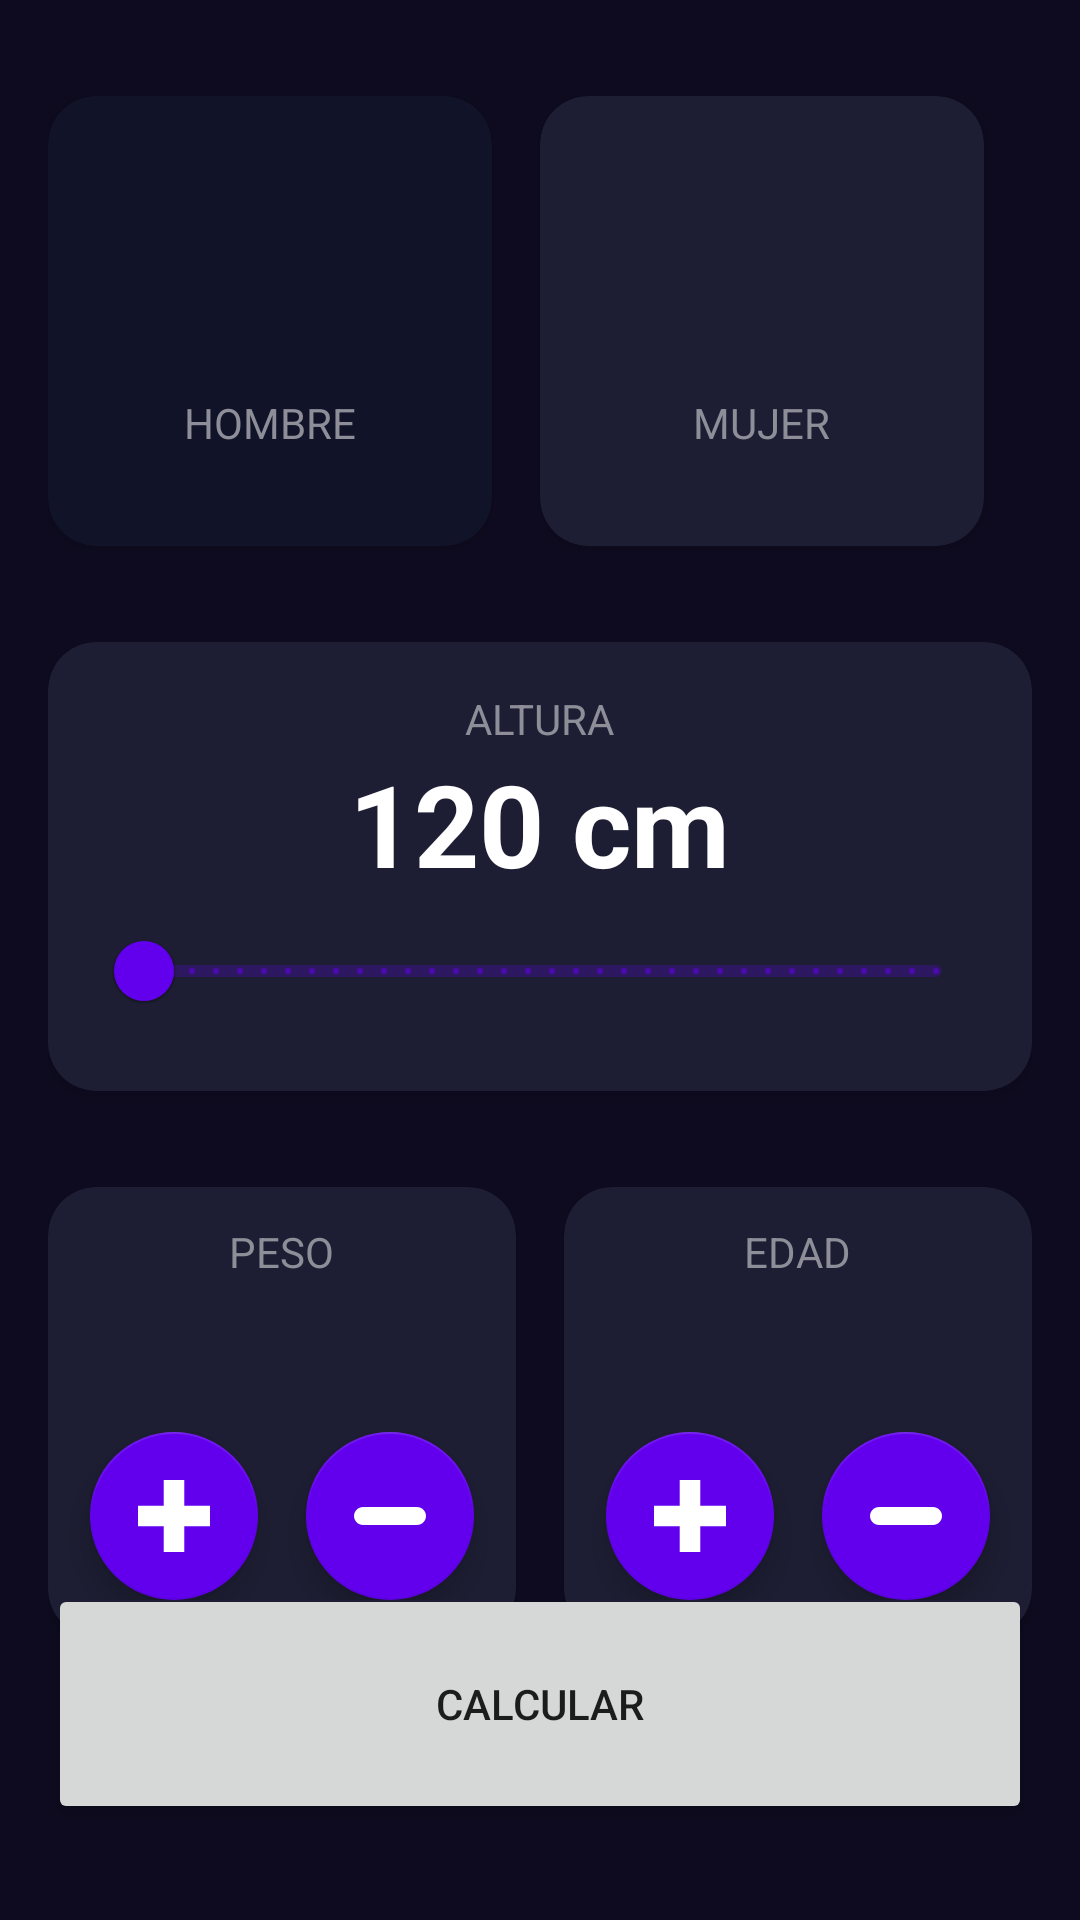

Where icons sit on this 1080x1920 app screen, as detection(x1, y1, x2, y2):
plus: detection(90, 1432, 258, 1600), detection(606, 1432, 774, 1600)
substract: detection(306, 1432, 474, 1600), detection(822, 1432, 990, 1600)
